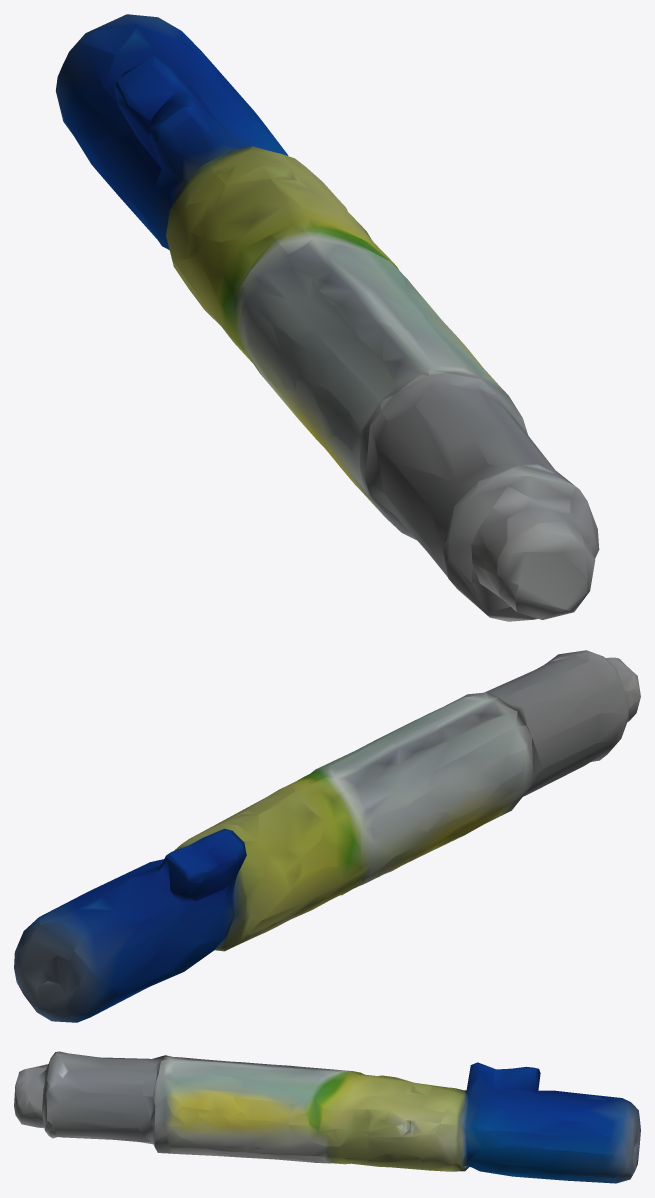
File: 0013_mask_014_blue_marker.glb
3 renders of one model, top to bottom at view 1: azimuth 30°, elevation 25°; view 2: azimuth 150°, elevation 25°; view 3: azimuth 270°, elevation 25°, orthographic. The views are drawn at different scales.
Parts seen in each view (by area): view 1: mask_014_object; view 2: mask_014_object; view 3: mask_014_object.
Part boxes in pixels (x1,y1,x2,y2): mask_014_object: [55, 14, 599, 621]; mask_014_object: [14, 650, 640, 1022]; mask_014_object: [14, 1051, 640, 1183].
Size of the model in its own units: 0.0684 by 0.0408 by 0.2346.
